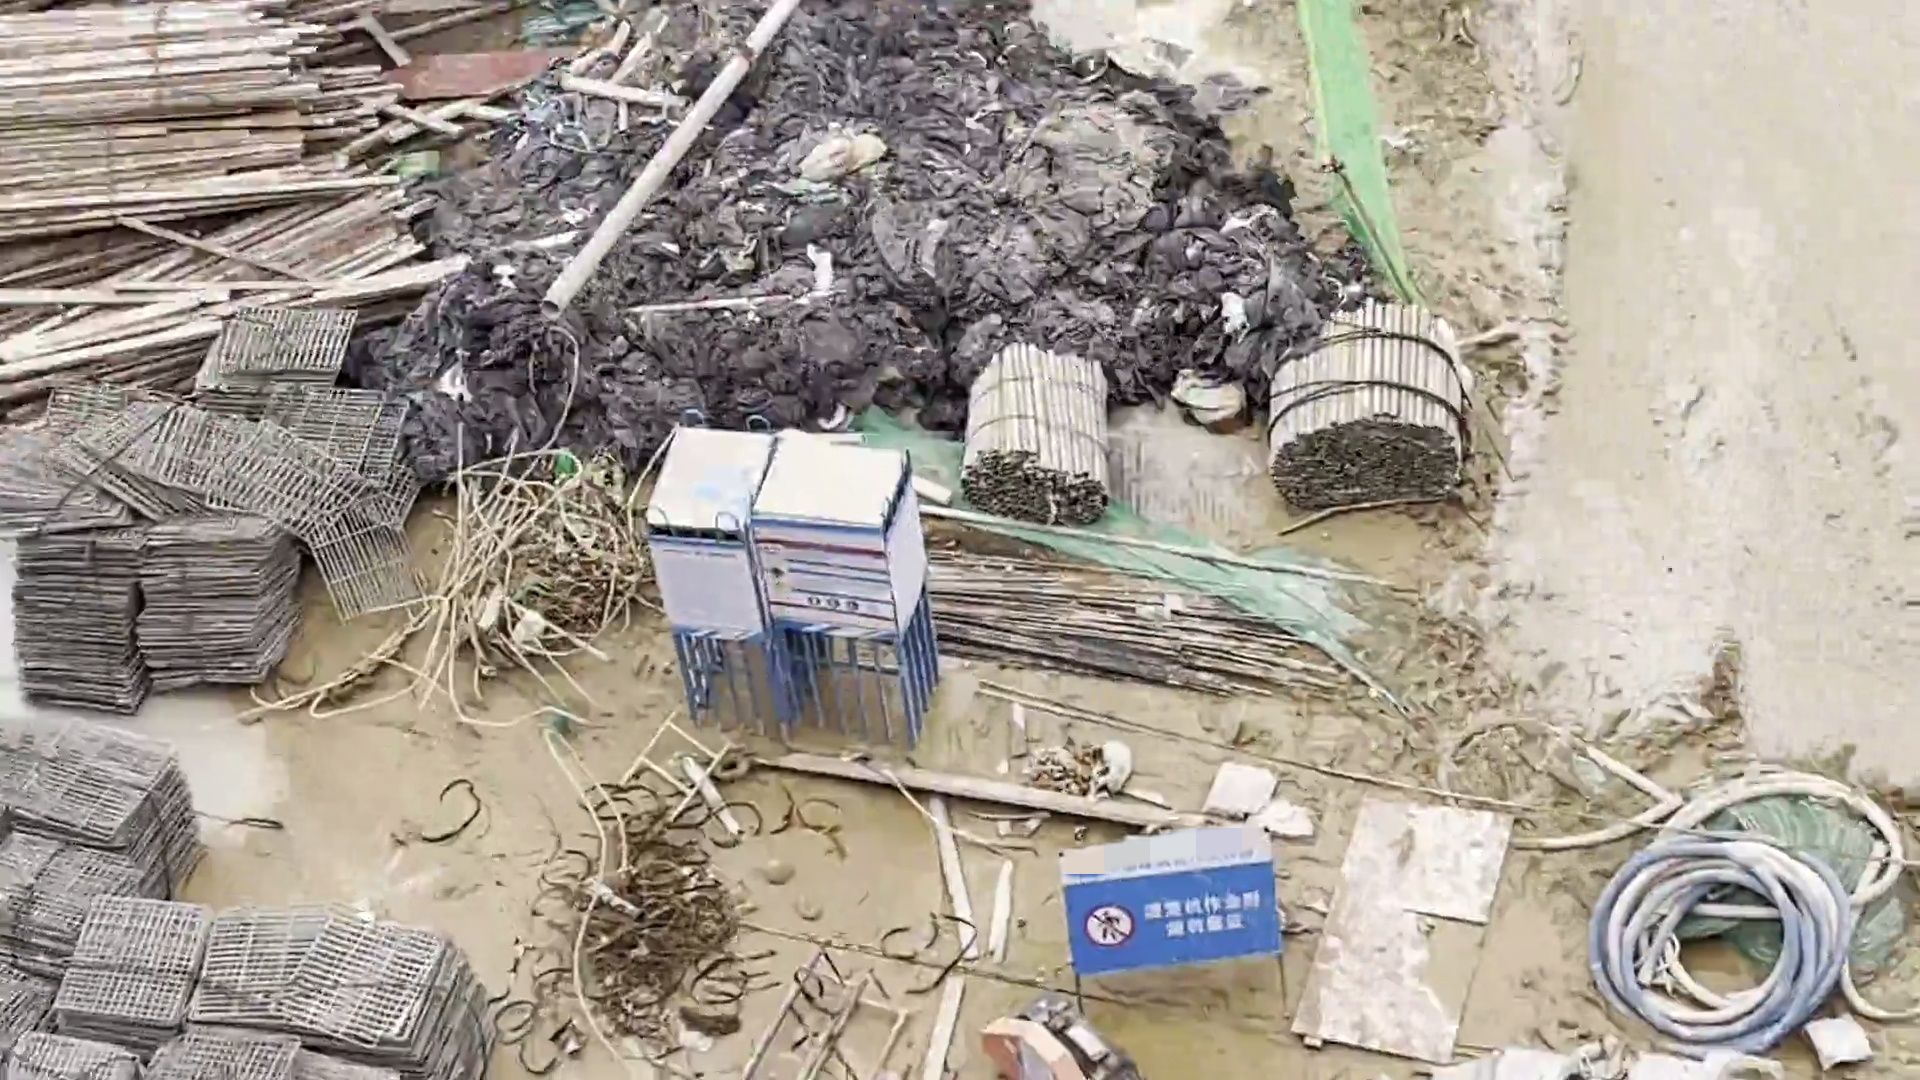scaffold: (1267, 285, 1476, 531), (968, 356, 1122, 527)
wood: (1, 11, 404, 303)
